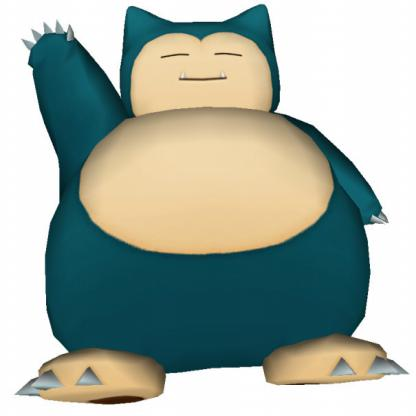Snorlax: (14, 1, 416, 404)
